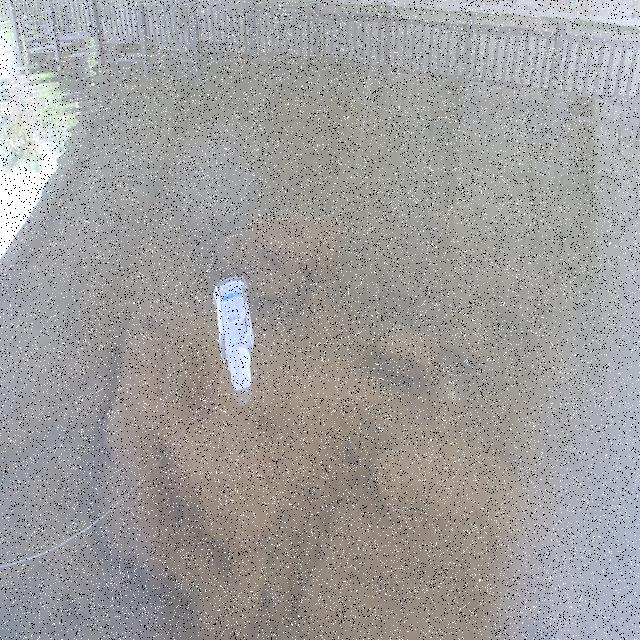Bottle: (212, 273, 255, 392)
